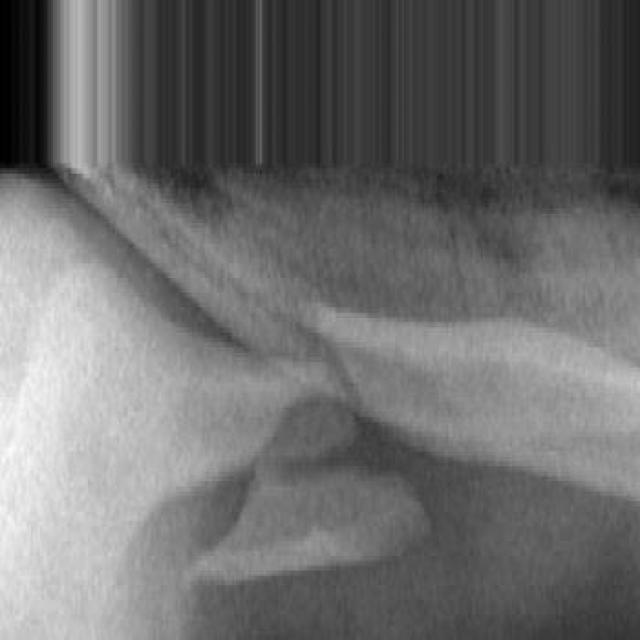Fracture: (284, 284, 366, 452)
